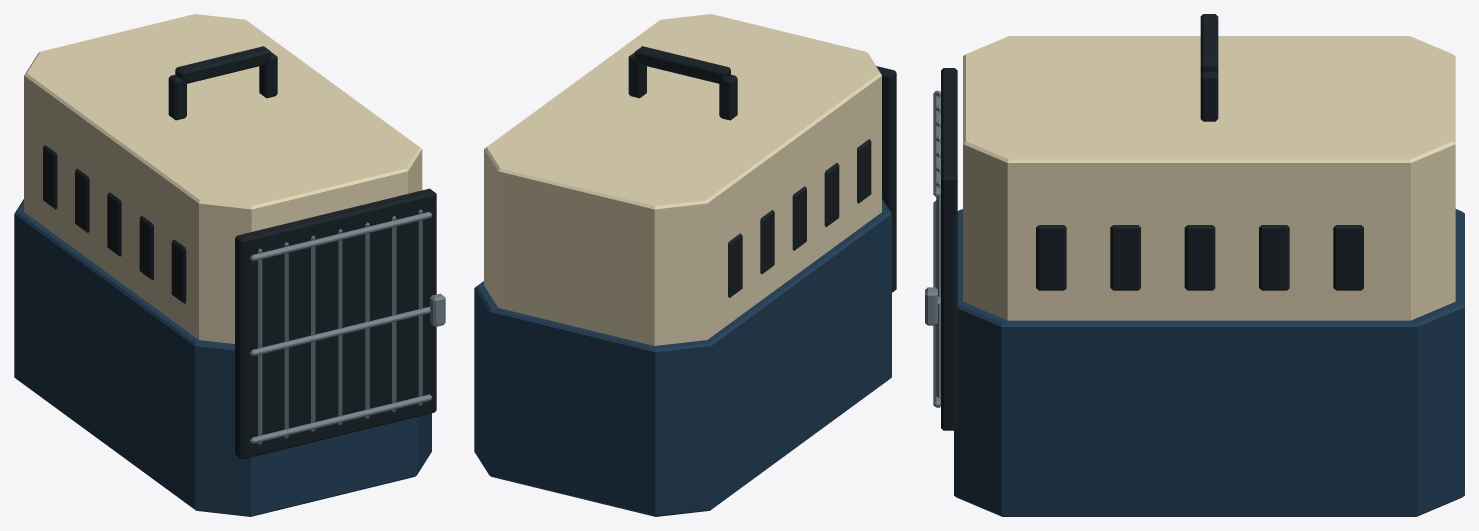
Rendered from b17_ventilated_pet_carrier.glb.
3 views of the same model, side by side, from view 1: azimuth 30°, elevation 25°; view 2: azimuth 150°, elevation 25°; view 3: azimuth 270°, elevation 25° (orthographic). The views are drawn at different scales.
Parts seen in each view (by area): view 1: b17_ventilated_pet_carrier; view 2: b17_ventilated_pet_carrier; view 3: b17_ventilated_pet_carrier.
Part boxes in pixels (box(x1,y1,x2,y2)): b17_ventilated_pet_carrier: box(14, 14, 445, 516); b17_ventilated_pet_carrier: box(474, 14, 896, 516); b17_ventilated_pet_carrier: box(925, 14, 1464, 516).
Size of the model in its own units: 0.34 by 0.4905 by 0.581.
